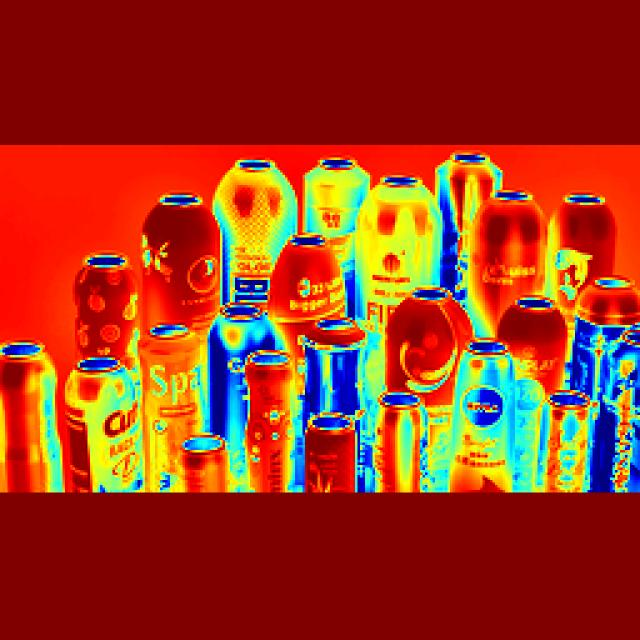Aerosol Cans: (52, 348, 152, 509), (130, 171, 226, 331), (567, 279, 638, 487), (219, 150, 293, 332), (360, 164, 444, 307), (0, 324, 60, 524), (238, 330, 305, 509), (307, 160, 377, 313), (462, 318, 516, 501), (478, 184, 548, 324), (144, 315, 196, 494), (272, 224, 346, 336), (77, 244, 143, 355), (180, 429, 244, 520)
